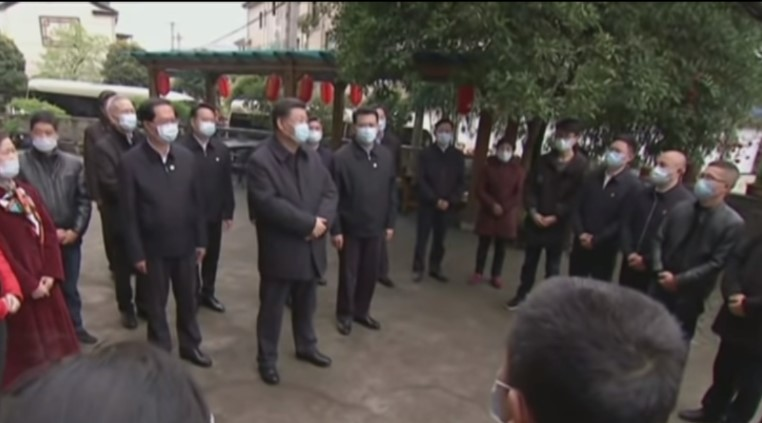face_with_mask: (693, 157, 740, 210), (269, 98, 314, 148), (141, 96, 182, 149), (647, 148, 689, 194), (27, 108, 61, 153), (600, 134, 638, 173), (351, 107, 388, 144), (106, 92, 137, 134), (551, 116, 583, 156), (188, 101, 220, 139), (430, 115, 458, 152), (1, 132, 21, 178), (496, 136, 518, 163)
